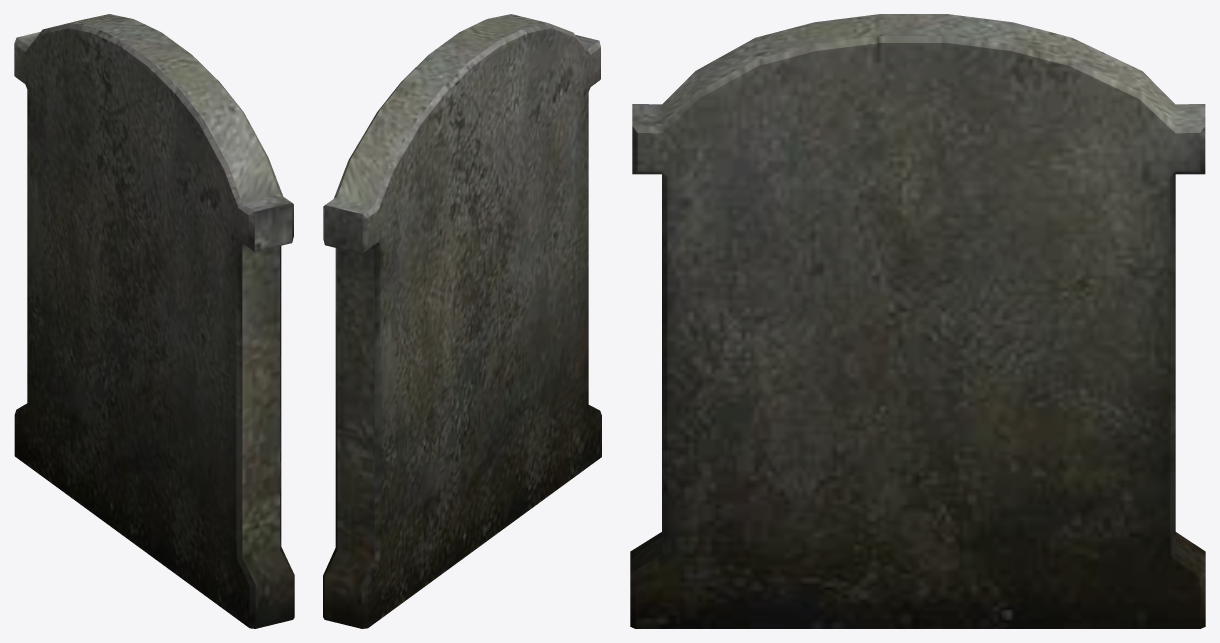
The model's file is gravestone003a.glb.
3 renders of one model, left to right at view 1: azimuth 30°, elevation 25°; view 2: azimuth 150°, elevation 25°; view 3: azimuth 270°, elevation 25°, orthographic. The views are drawn at different scales.
Parts seen in each view (by area): view 1: 0_gravestones003a; view 2: 0_gravestones003a; view 3: 0_gravestones003a.
Boxes of the visible parts, box(x1,y1,x2,y2) form: 0_gravestones003a: box(14, 14, 294, 628); 0_gravestones003a: box(323, 14, 601, 628); 0_gravestones003a: box(630, 14, 1205, 628).
Bounding box in the file's own units: 0.1078 × 1.12 × 0.9917.
1 material, 1 textured.
